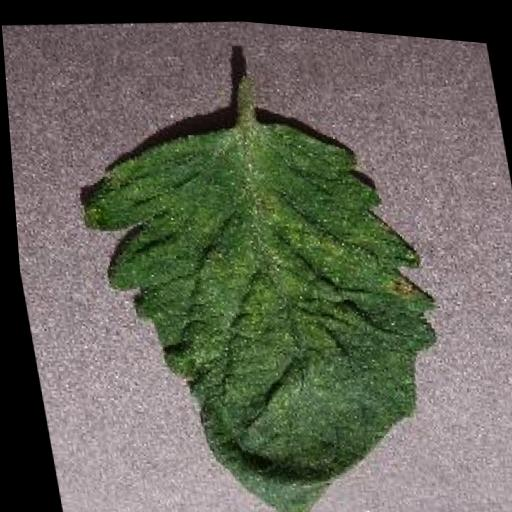Spider Mites: (63, 88, 466, 512)
